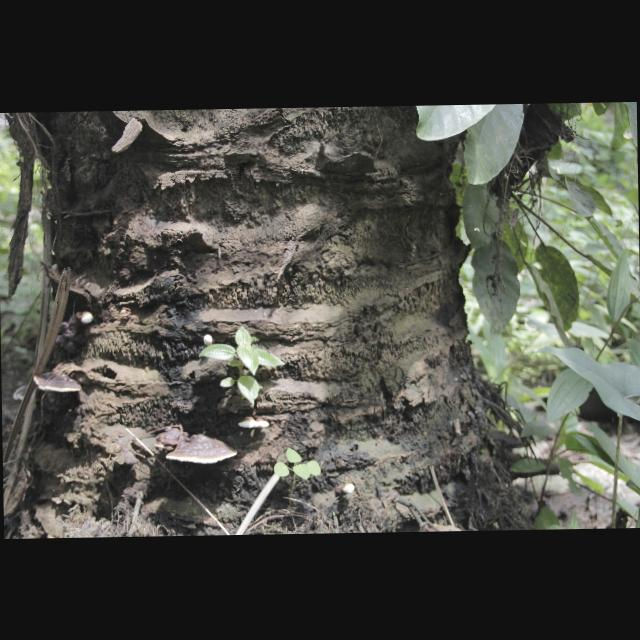ganoderma: (154, 426, 238, 467), (54, 312, 80, 357), (33, 372, 83, 394), (239, 417, 271, 430), (12, 385, 29, 402)
primordium: (341, 483, 357, 496), (81, 312, 95, 325), (204, 335, 215, 348)
